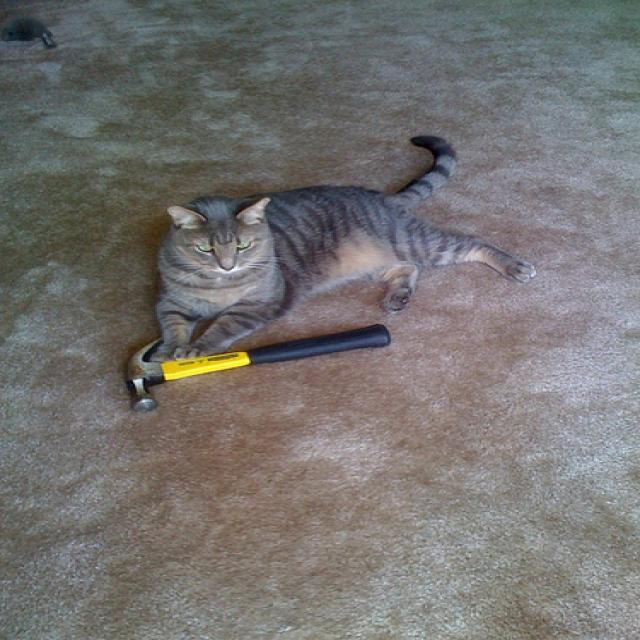hammer: (118, 325, 414, 421)
